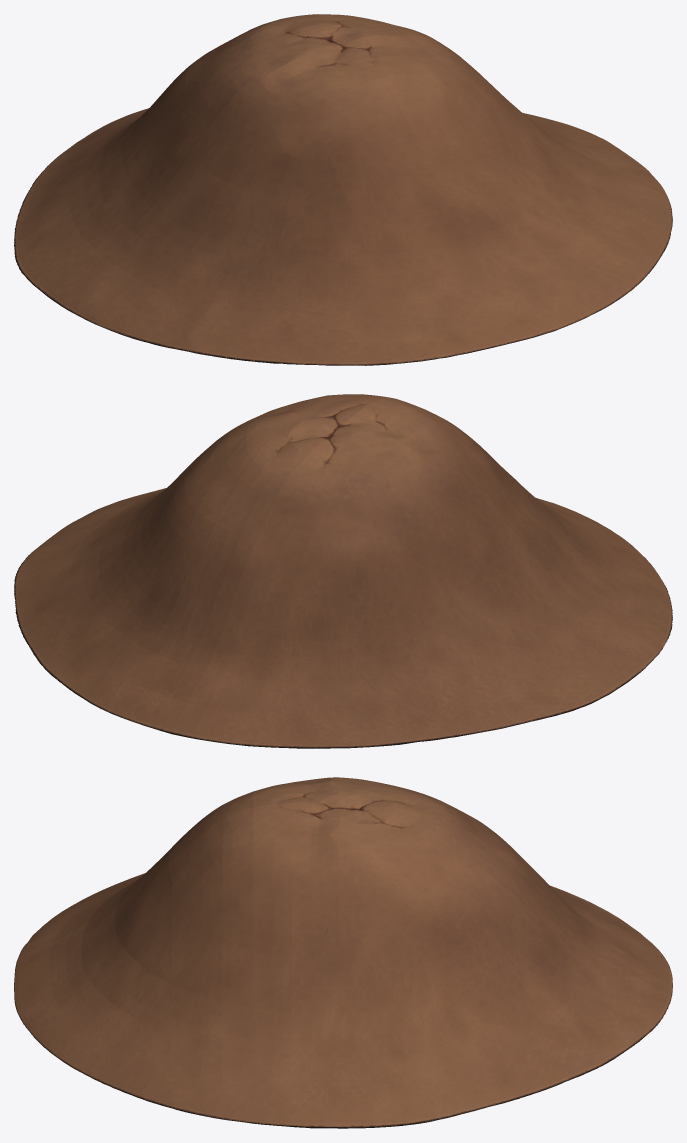
The picture shows the model from 3 angles, top to bottom: view 1: azimuth 30°, elevation 25°; view 2: azimuth 150°, elevation 25°; view 3: azimuth 270°, elevation 25°; orthographic projection.
Visible parts, largest first — view 1: world; view 2: world; view 3: world.
Part boxes in pixels (bbox=[...]): world: bbox=[14, 14, 672, 365]; world: bbox=[14, 394, 672, 748]; world: bbox=[14, 777, 672, 1128].
Bounding box in the file's own units: 1 × 0.3088 × 0.9911.
1 material, 1 textured.
